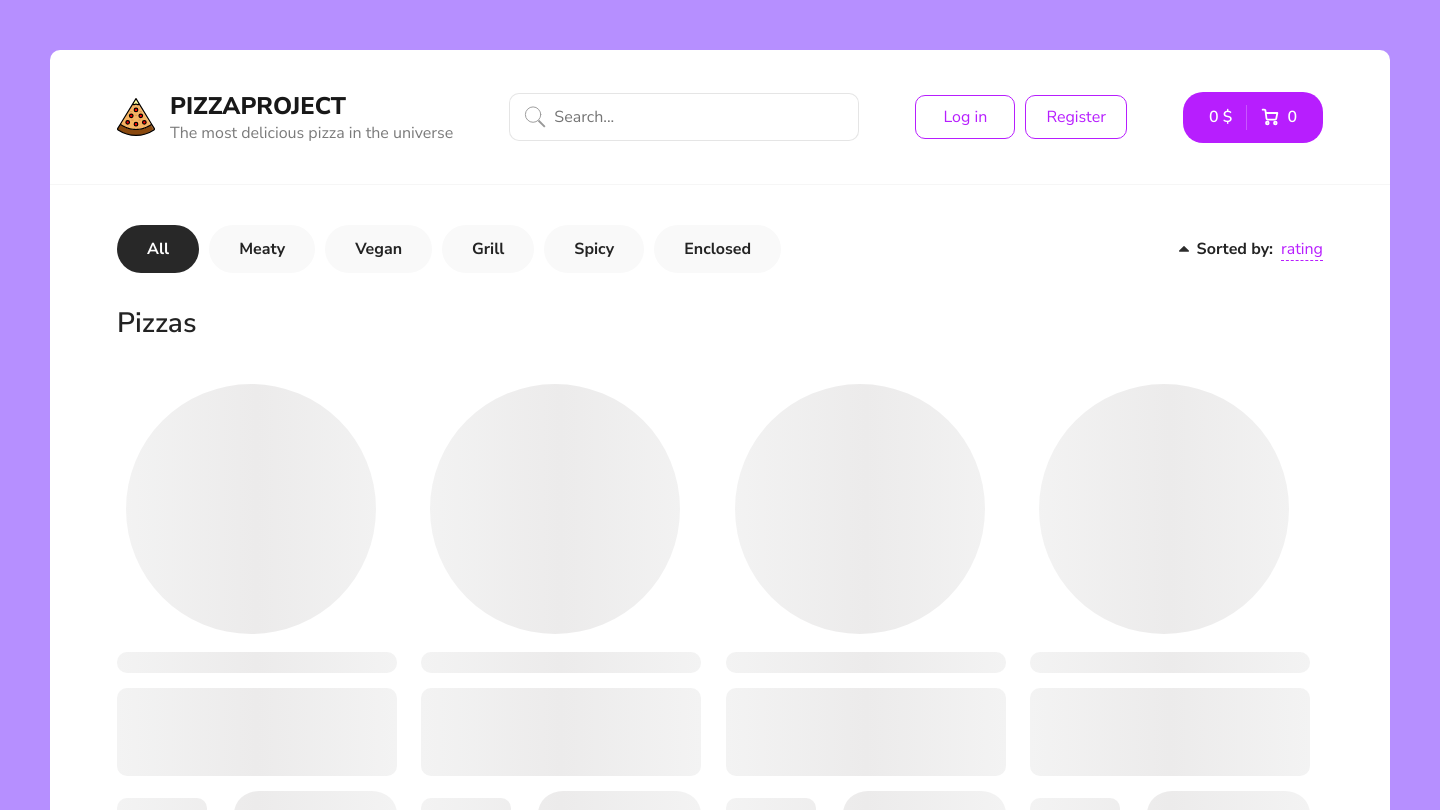
it: login test › should redirect to login page
Click the link with test id "login" at (965, 117), box [915, 95, 1015, 139]
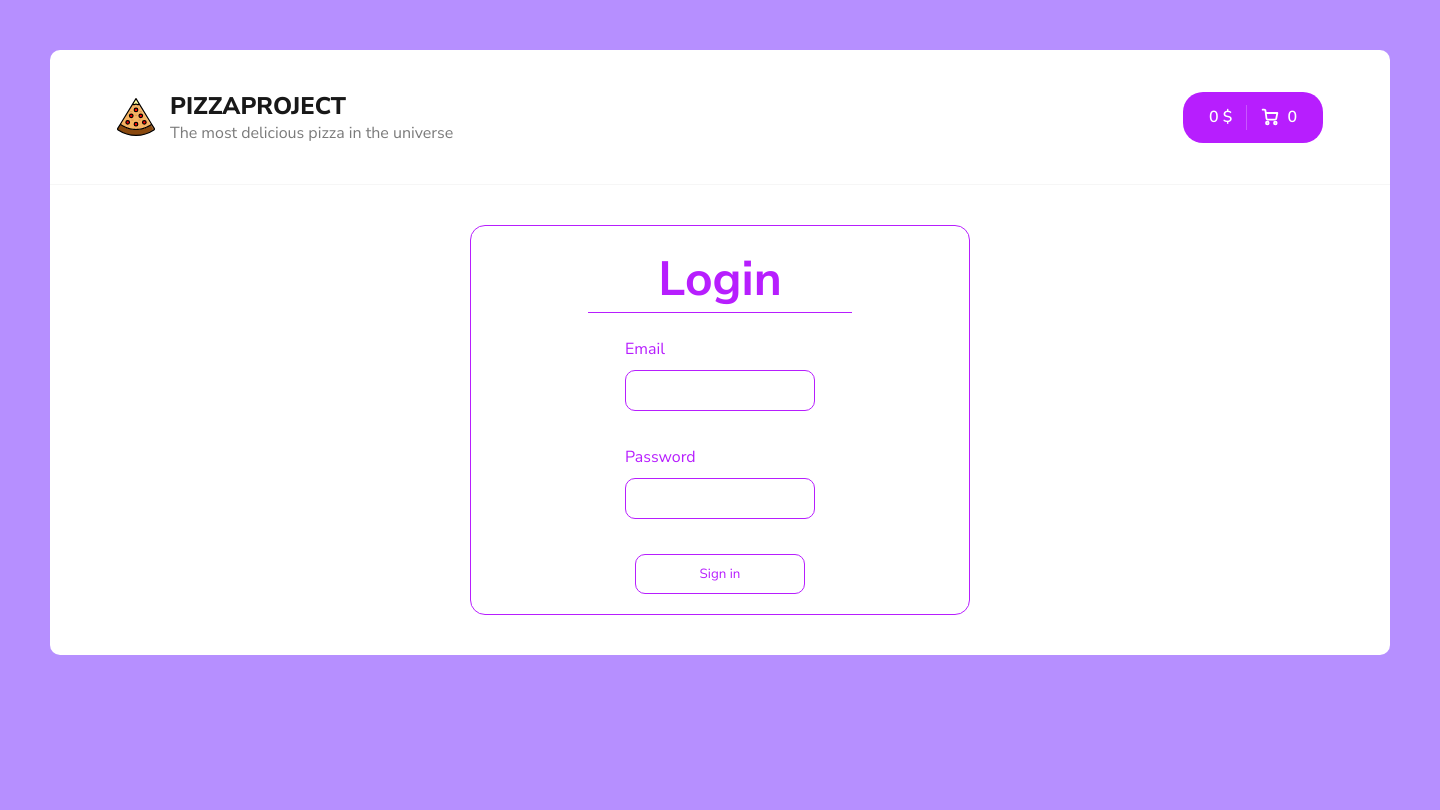
Check: the heading "Login" is shown, box [658, 246, 782, 313]
